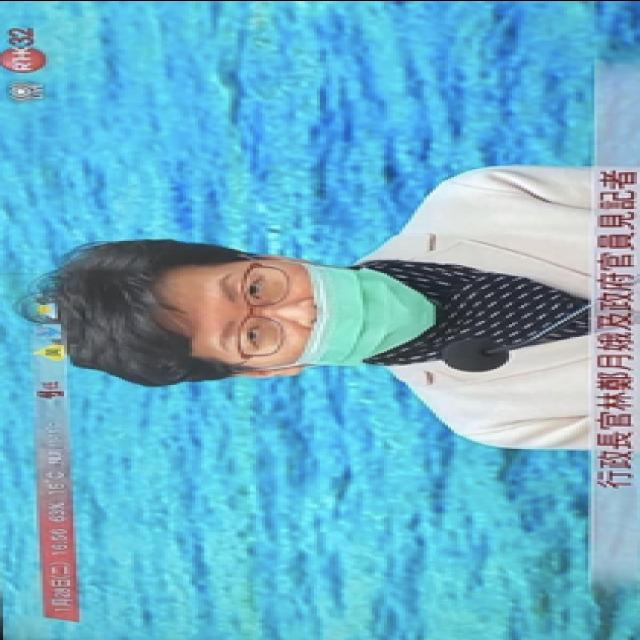mask_weared_incorrect: (208, 259, 436, 368)
